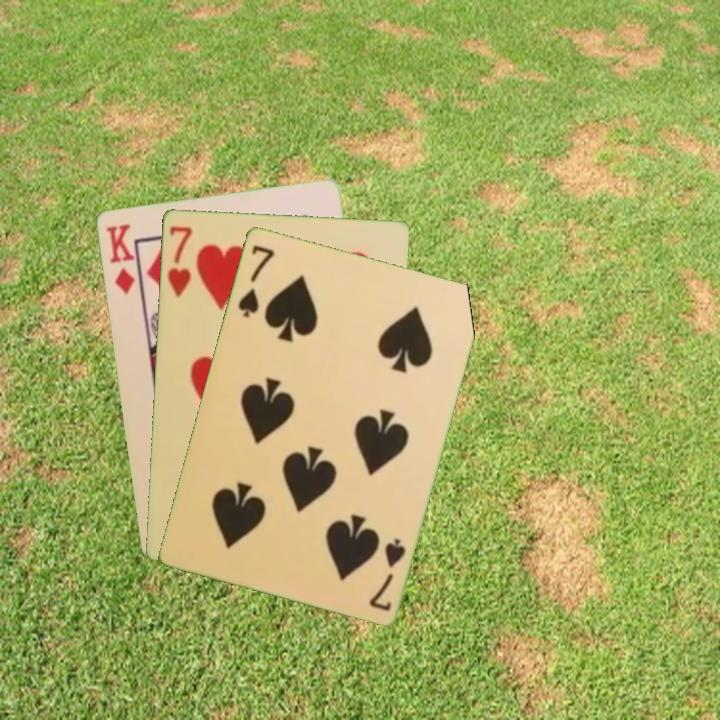7h: (164, 222, 194, 300)
7s: (365, 534, 408, 614), (234, 241, 277, 320)
Kd: (102, 220, 137, 297)
